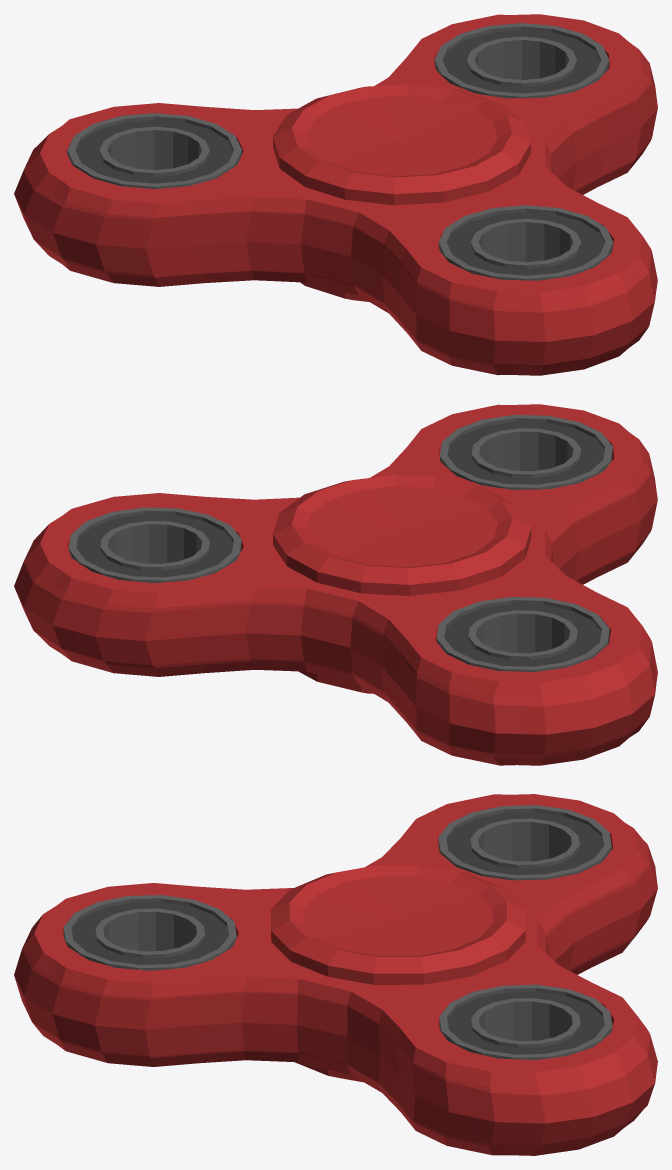
File: Fidget.fbx
The picture shows the model from 3 angles, top to bottom: view 1: azimuth 30°, elevation 25°; view 2: azimuth 150°, elevation 25°; view 3: azimuth 270°, elevation 25°; orthographic projection.
Parts seen in each view (by area): view 1: Base, Mid; view 2: Base, Mid; view 3: Base, Mid.
Part boxes in pixels (x1,y1,x2,y2): Base: (14, 14, 657, 375); Mid: (273, 84, 530, 301); Base: (14, 404, 657, 765); Mid: (273, 475, 531, 693); Base: (14, 794, 657, 1155); Mid: (271, 865, 525, 1082).
Bounding box in the file's own units: 690 × 138 × 631.
